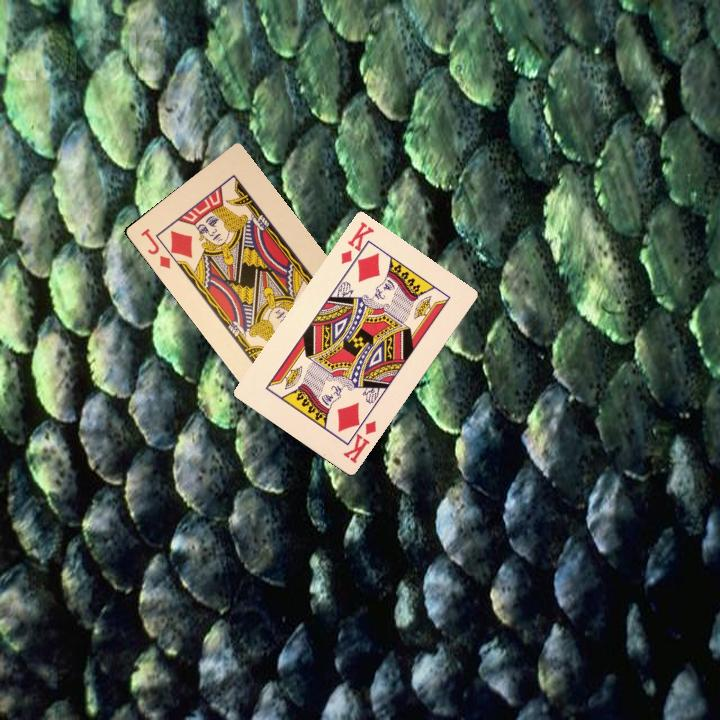Jd: (137, 224, 173, 271)
Kd: (337, 217, 377, 275), (339, 412, 379, 466)
